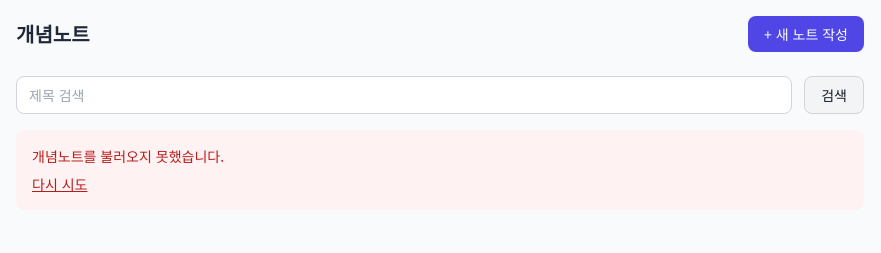
Test: 개념노트 서버 목록 › 내 노트 조회 실패를 표시하고 재시도한다
expect the message "개념노트를 불러오지 못했습니다. 다시 시도" is shown: met, box [16,130,864,210]
Step 1. Click the button "다시 시도" → (60, 184), box [32,174,88,194]
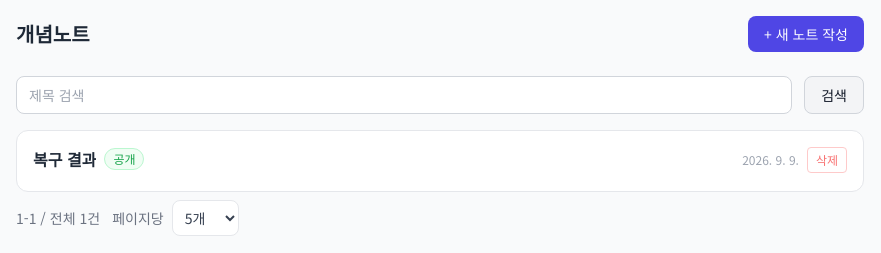
expect the heading "복구 결과" is shown: met, box [33,147,96,171]
expect the message "개념노트를 불러오지 못했습니다. 다시 시도" is gone: met
